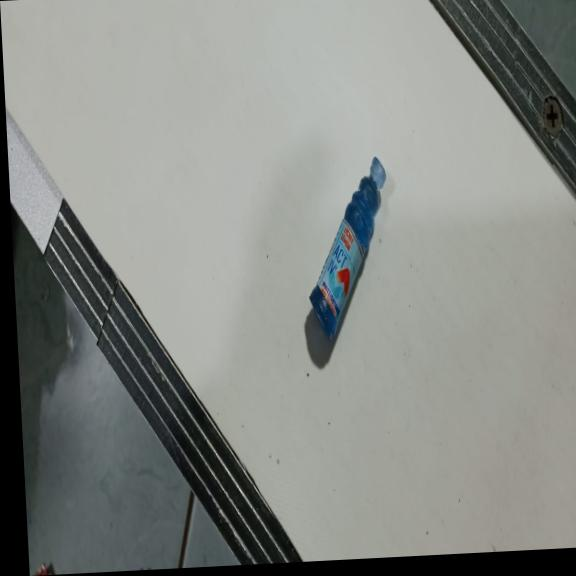Plastik: (300, 152, 396, 340)
